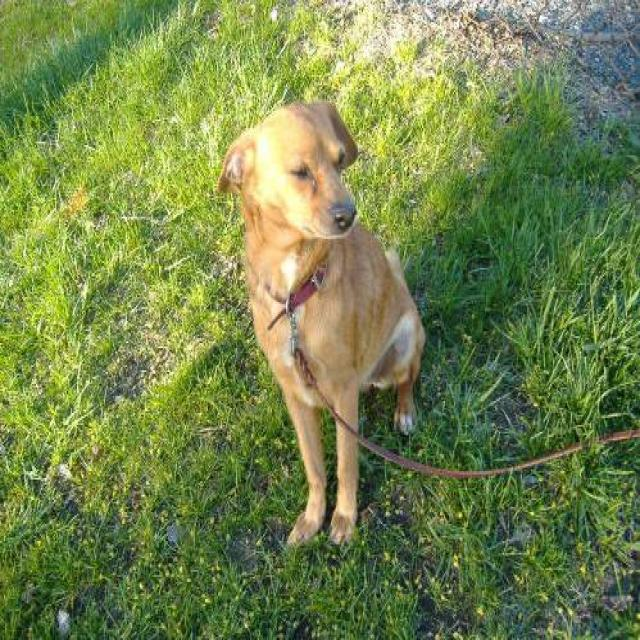dog: (215, 97, 426, 548)
